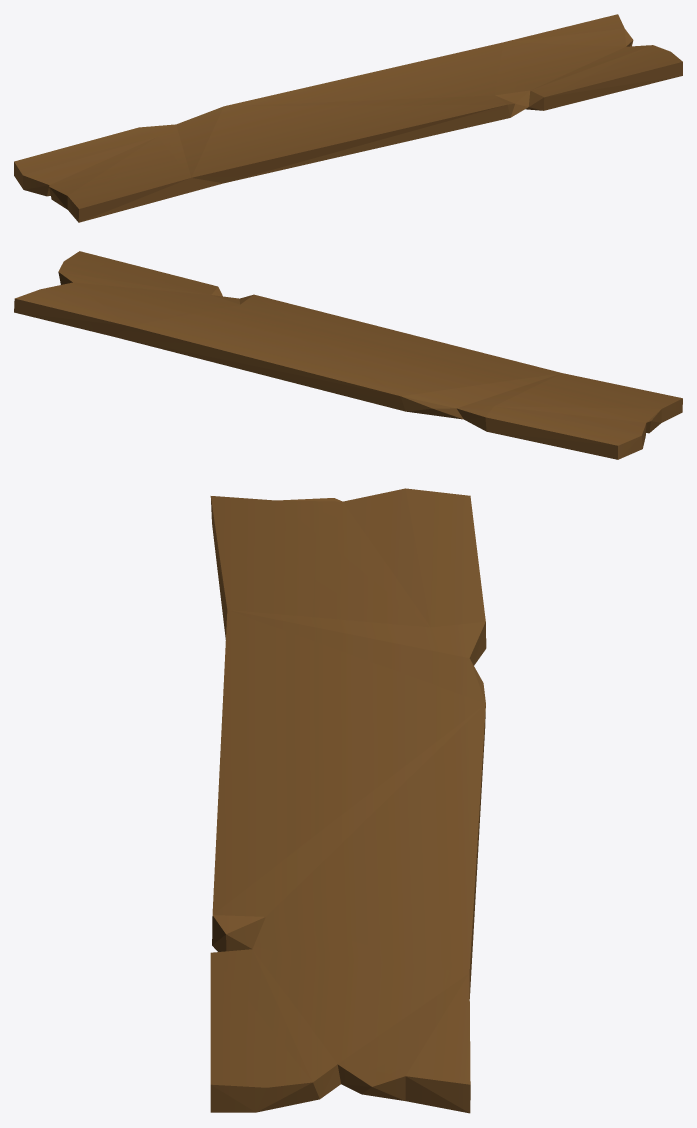
Rendered from Board_08.fbx.
3 views of the same model, one above another, from view 1: azimuth 30°, elevation 25°; view 2: azimuth 150°, elevation 25°; view 3: azimuth 270°, elevation 25° (orthographic). The views are drawn at different scales.
Parts seen in each view (by area): view 1: Board_08; view 2: Board_08; view 3: Board_08.
Part boxes in pixels (left/top/right/bottom): Board_08: left=14, top=14, right=682, bottom=222; Board_08: left=14, top=251, right=682, bottom=459; Board_08: left=210, top=488, right=486, bottom=1113.
Size of the model in its own units: 157 by 3.83 by 30.61.
